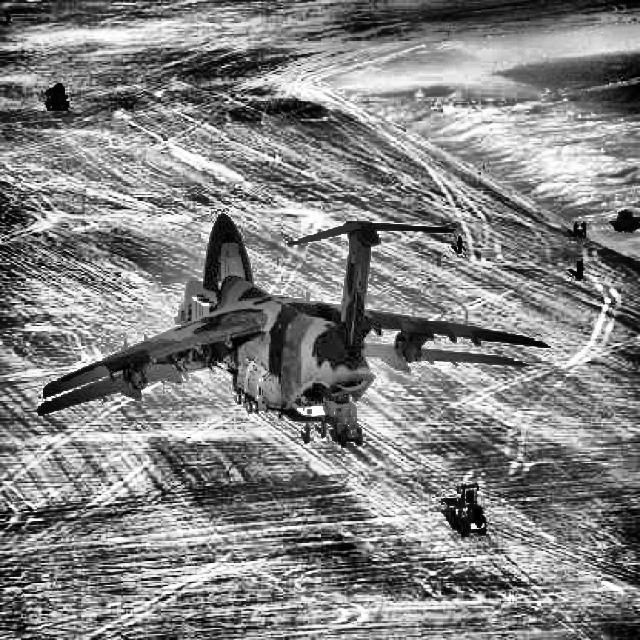C5: (42, 213, 550, 418)
